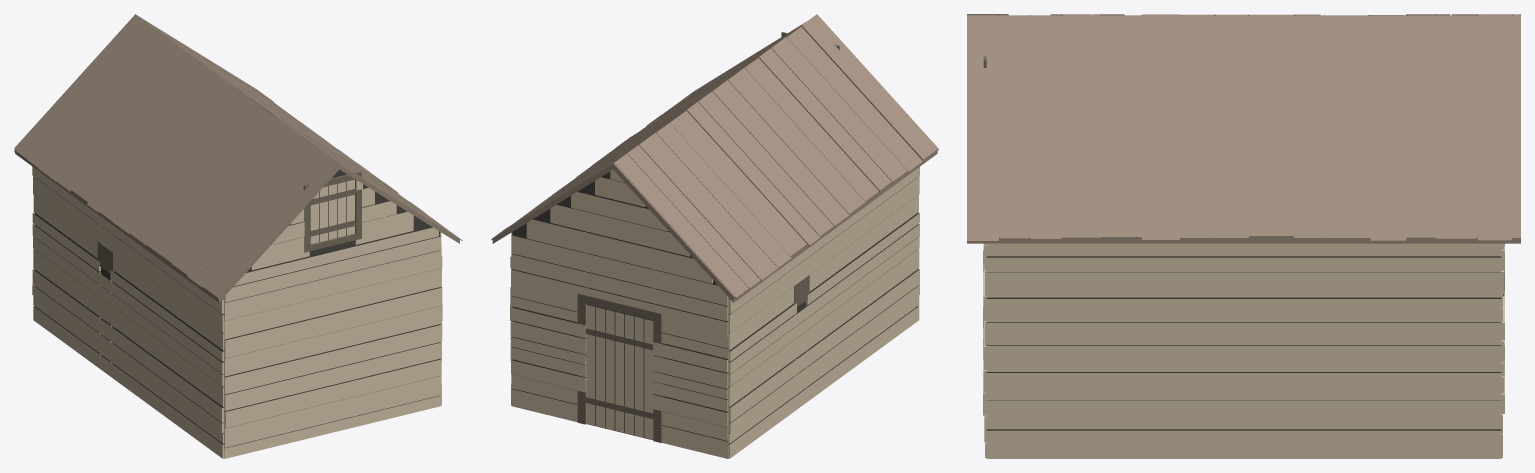
The model's file is recon_1835_north_a1_008__inferred_1835.glb.
The picture shows the model from 3 angles, left to right: view 1: azimuth 30°, elevation 25°; view 2: azimuth 150°, elevation 25°; view 3: azimuth 270°, elevation 25°; orthographic projection. The views are drawn at different scales.
Visible parts, largest first — view 1: recon_1835_north_a1_008__inferred_1835; view 2: recon_1835_north_a1_008__inferred_1835; view 3: recon_1835_north_a1_008__inferred_1835.
Boxes of the visible parts, left/top/right/bottom form: recon_1835_north_a1_008__inferred_1835: left=14, top=14, right=462, bottom=458; recon_1835_north_a1_008__inferred_1835: left=491, top=14, right=938, bottom=458; recon_1835_north_a1_008__inferred_1835: left=967, top=14, right=1520, bottom=458.
Size of the model in its own units: 4.9 by 5.22 by 7.04.
